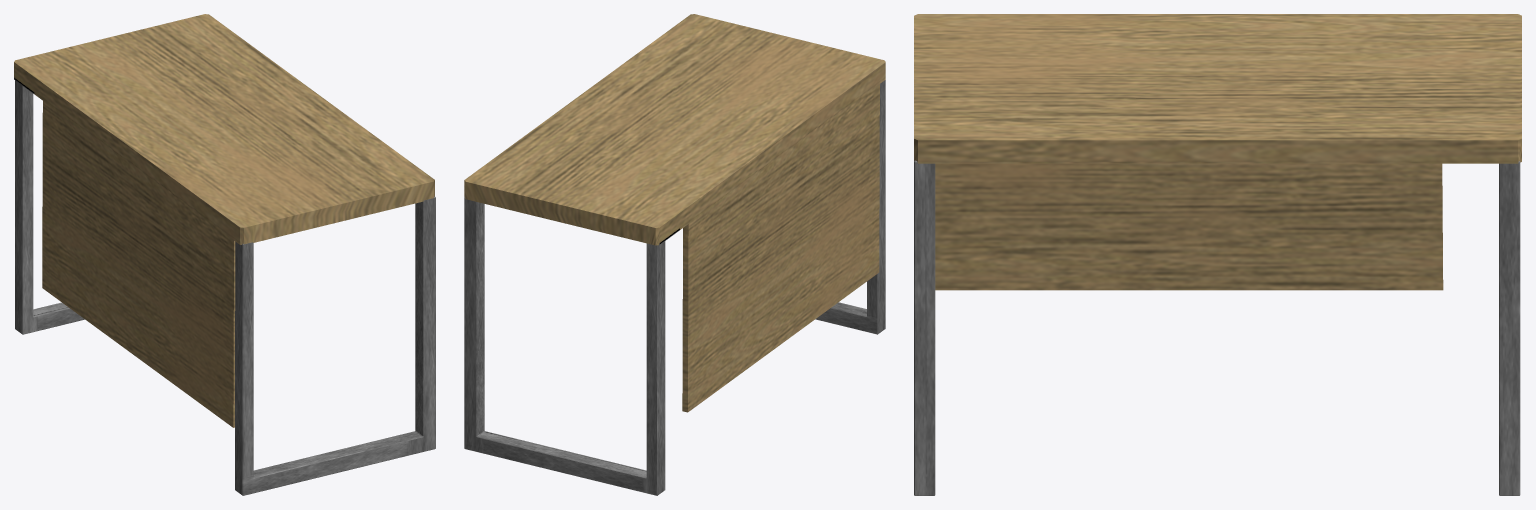
File: work_table.fbx
3 views of the same model, side by side, from view 1: azimuth 30°, elevation 25°; view 2: azimuth 150°, elevation 25°; view 3: azimuth 270°, elevation 25° (orthographic). The views are drawn at different scales.
Visible parts, largest first — view 1: polySurface3; view 2: polySurface3; view 3: polySurface3.
Part boxes in pixels (box(x1,y1,x2,y2)): polySurface3: box(14, 14, 435, 495); polySurface3: box(464, 14, 885, 495); polySurface3: box(914, 14, 1521, 495).
Bounding box in the file's own units: 1.12 × 1.47 × 2.28.
